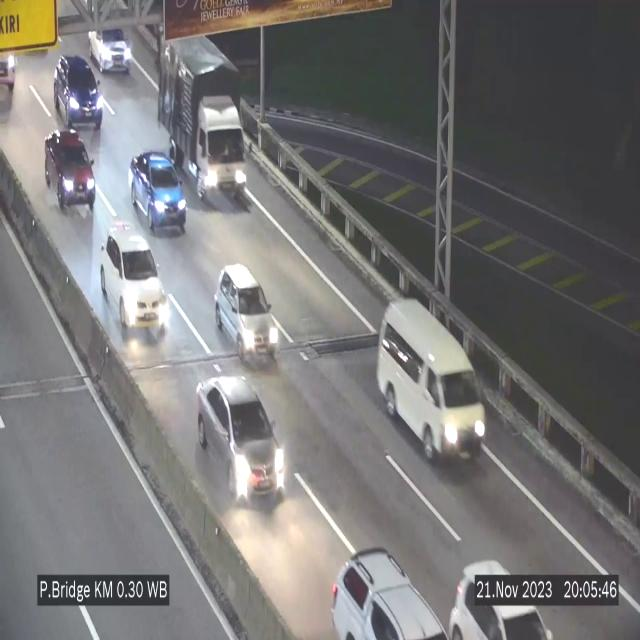Car: (377, 299, 487, 462), (324, 538, 453, 640), (193, 368, 283, 509), (452, 545, 552, 640), (105, 234, 171, 336), (215, 264, 278, 364), (37, 126, 99, 211), (48, 56, 110, 135), (130, 152, 186, 233), (83, 7, 139, 78), (0, 29, 25, 94)
Truck: (156, 20, 247, 209)
